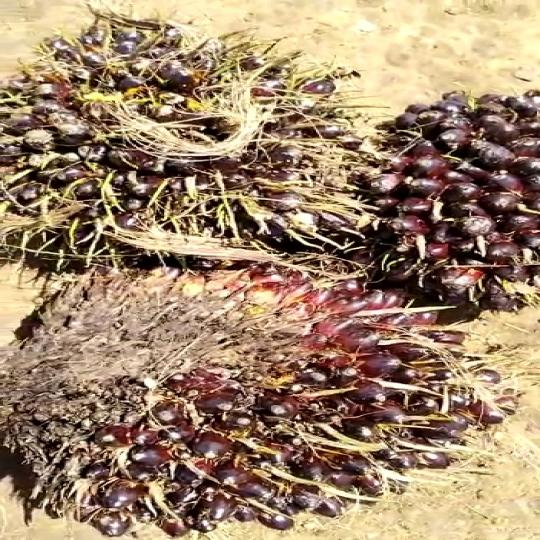mentah: (0, 241, 515, 531), (0, 22, 344, 285), (336, 66, 540, 330)
